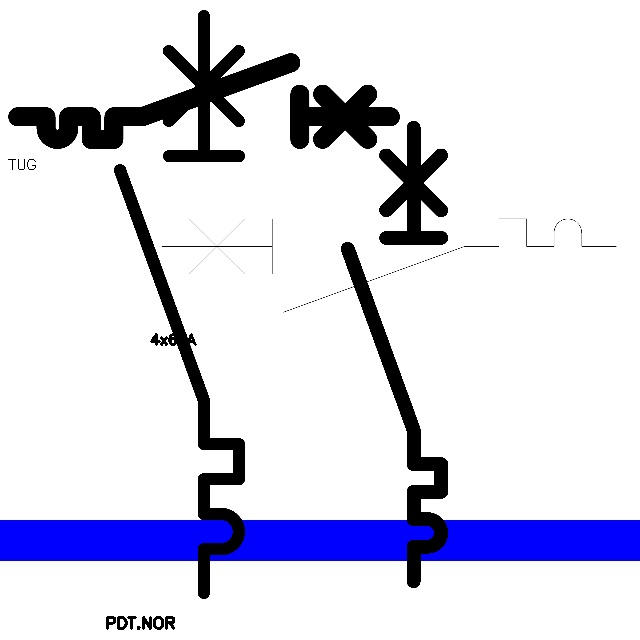interruptor_termomagnetico: (105, 1, 254, 608), (150, 207, 628, 324), (336, 116, 453, 593), (8, 53, 399, 149)
